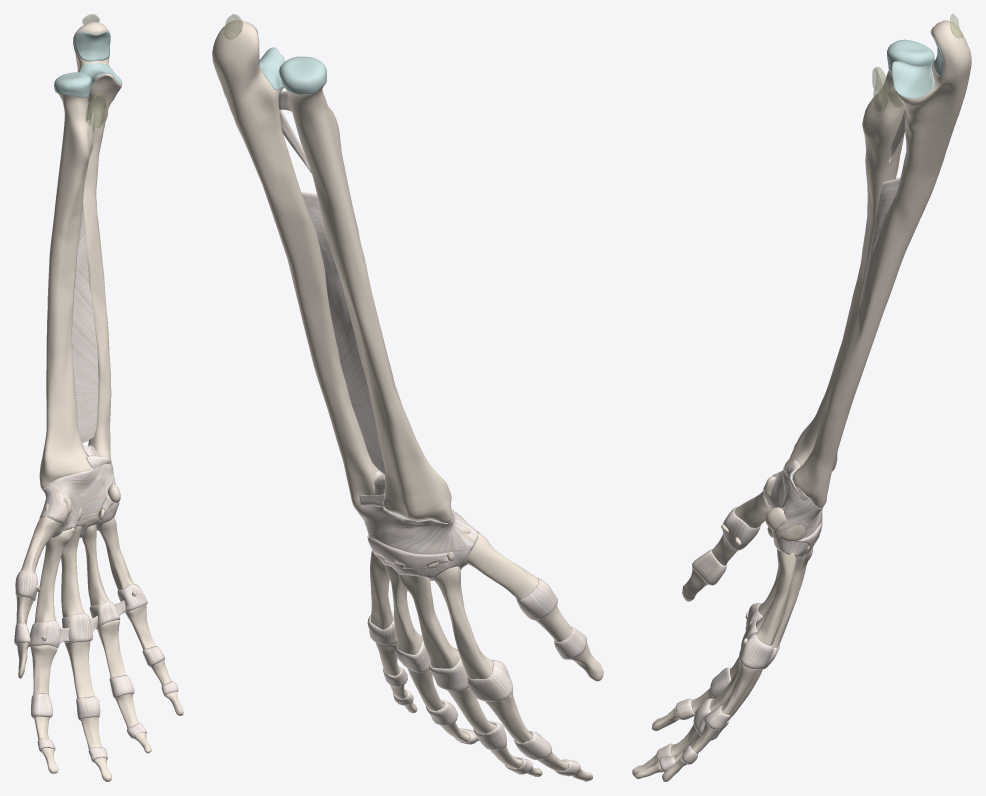
File: open3dmodel-hand-and-wrist-joints.glb
3 views of the same model, side by side, from view 1: azimuth 30°, elevation 25°; view 2: azimuth 150°, elevation 25°; view 3: azimuth 270°, elevation 25° (orthographic). The views are drawn at different scales.
Parts seen in each view (by area): view 1: Radius.r, Ulna.r, Interosseous membrane of forearm.r, Articular capsule of radiocarpal joint, Articular capsules of metacarpophalangeal joints, Articular capsules of proximal interphalangeal joints, 2nd metacarpal bone.r, Art cart of ulna (proximal end).r, 3rd metacarpal bone.r, 5th metacarpal bone.r, Proximal phalanx of 3rd finger.r, 4th metacarpal bone.r (+11 smaller); view 2: Ulna.r, Radius.r, Articular capsule of radiocarpal joint, Interosseous membrane of forearm.r, Articular capsules of metacarpophalangeal joints, 2nd metacarpal bone.r, 3rd metacarpal bone.r, 1st metacarpal bone.r, Articular capsules of proximal interphalangeal joints, Art cart of radius head.r, Articular capsules of distal interphalangeal joints, 4th metacarpal bone.r (+7 smaller); view 3: Ulna.r, Radius.r, Articular capsule of radiocarpal joint, Articular capsules of metacarpophalangeal joints, Articular capsules of distal interphalangeal joints, 5th metacarpal bone.r, Art cart of ulna (proximal end).r, Articular capsules of proximal interphalangeal joints, Art cart of radius head.r, Interosseous membrane of forearm.r, 1st metacarpal bone.r, 4th metacarpal bone.r (+2 smaller).
Part boxes in pixels (box(x1,y1,x2,y2)): Radius.r: box(39, 93, 93, 488); Ulna.r: box(73, 22, 121, 458); Interosseous membrane of forearm.r: box(72, 204, 98, 442); Articular capsule of radiocarpal joint: box(39, 445, 119, 538); Articular capsules of metacarpophalangeal joints: box(15, 570, 147, 648); Articular capsules of proximal interphalangeal joints: box(31, 646, 164, 720); 2nd metacarpal bone.r: box(34, 528, 74, 622); Art cart of ulna (proximal end).r: box(73, 31, 122, 87); 3rd metacarpal bone.r: box(61, 526, 85, 617); 5th metacarpal bone.r: box(99, 517, 133, 590); Proximal phalanx of 3rd finger.r: box(64, 641, 95, 698); 4th metacarpal bone.r: box(82, 525, 109, 605); Ulna.r: box(212, 20, 379, 508); Radius.r: box(286, 86, 452, 522); Articular capsule of radiocarpal joint: box(354, 471, 478, 580); Interosseous membrane of forearm.r: box(301, 192, 385, 474); Articular capsules of metacarpophalangeal joints: box(367, 578, 557, 701); 2nd metacarpal bone.r: box(434, 566, 492, 678); 3rd metacarpal bone.r: box(400, 574, 460, 668); 1st metacarpal bone.r: box(466, 533, 538, 599); Articular capsules of proximal interphalangeal joints: box(383, 666, 551, 759); Art cart of radius head.r: box(279, 56, 326, 94); Articular capsules of distal interphalangeal joints: box(393, 626, 586, 776); 4th metacarpal bone.r: box(384, 564, 422, 654); Ulna.r: box(792, 20, 971, 508); Radius.r: box(784, 70, 905, 471); Articular capsule of radiocarpal joint: box(763, 464, 823, 560); Articular capsules of metacarpophalangeal joints: box(722, 506, 779, 669); Articular capsules of distal interphalangeal joints: box(656, 549, 727, 772); 5th metacarpal bone.r: box(755, 549, 797, 645); Art cart of ulna (proximal end).r: box(891, 30, 943, 99); Articular capsules of proximal interphalangeal joints: box(693, 667, 731, 740); Art cart of radius head.r: box(887, 39, 934, 72); Interosseous membrane of forearm.r: box(859, 177, 900, 306); 1st metacarpal bone.r: box(734, 491, 771, 527); 4th metacarpal bone.r: box(773, 553, 806, 648).
Size of the model in its own units: 0.1324 by 0.4244 by 0.1576.
Materials: 36 (3 with a texture image).
